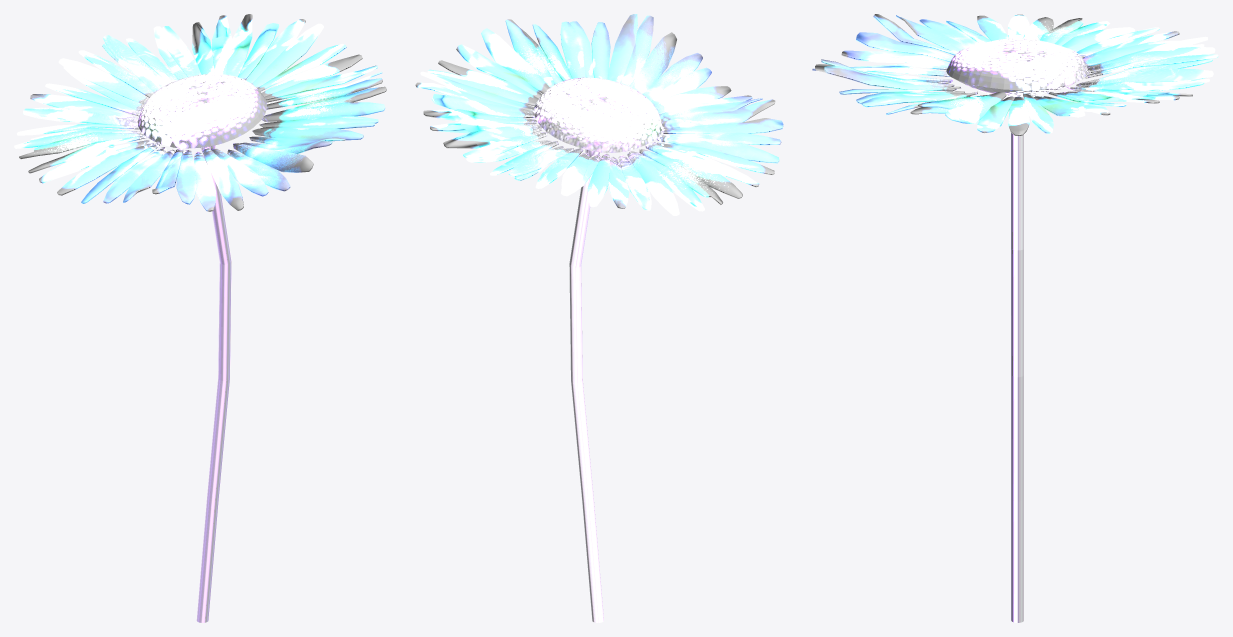
The model's file is daisy-v2.glb.
The picture shows the model from 3 angles, left to right: view 1: azimuth 30°, elevation 25°; view 2: azimuth 150°, elevation 25°; view 3: azimuth 270°, elevation 25°; orthographic projection. The views are drawn at different scales.
Visible parts, largest first — view 1: Plane.013; view 2: Plane.013; view 3: Plane.013.
Boxes of the visible parts, x1=… form: Plane.013: x1=14, y1=14, x2=386, y2=622; Plane.013: x1=415, y1=14, x2=783, y2=622; Plane.013: x1=812, y1=14, x2=1218, y2=622.
Bounding box in the file's own units: 0.9333 × 1.49 × 0.9376.
